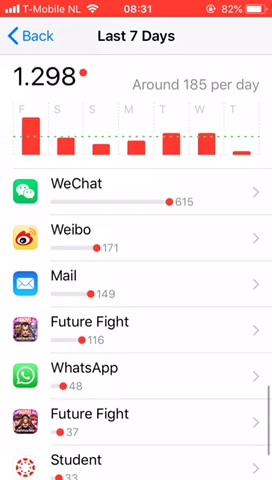not_app: (12, 169, 224, 216), (8, 219, 164, 262), (9, 307, 157, 352), (9, 399, 152, 445), (8, 264, 158, 306), (9, 355, 146, 398), (9, 446, 141, 480)
week: (86, 26, 183, 47)
